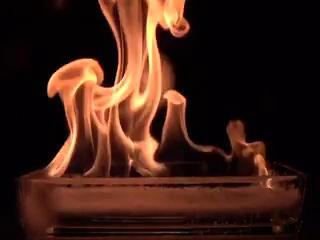Fire: (57, 1, 268, 176)
